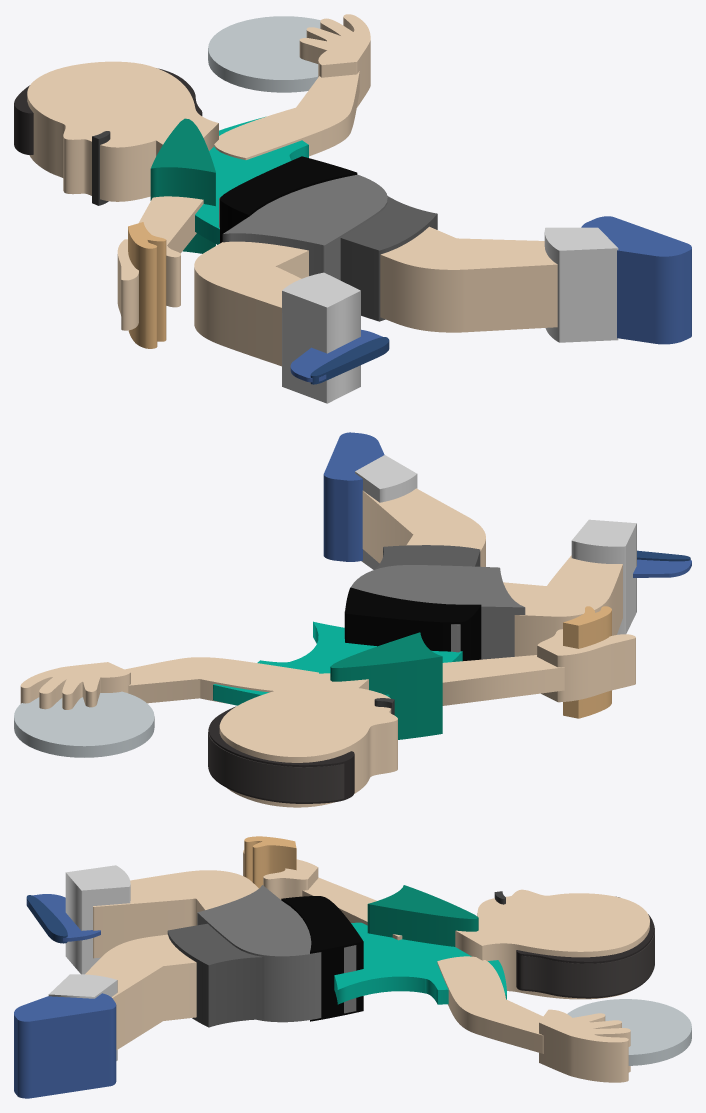
File: emoji_u1f93e_1f3fb_200d_2642.glb
The picture shows the model from 3 angles, top to bottom: view 1: azimuth 30°, elevation 25°; view 2: azimuth 150°, elevation 25°; view 3: azimuth 270°, elevation 25°; orthographic projection. The views are drawn at different scales.
Visible parts, largest first — view 1: emoji_u1f93e_1f3fb_200d_2642; view 2: emoji_u1f93e_1f3fb_200d_2642; view 3: emoji_u1f93e_1f3fb_200d_2642.
Boxes of the visible parts, bbox=[...] form: emoji_u1f93e_1f3fb_200d_2642: bbox=[14, 14, 691, 403]; emoji_u1f93e_1f3fb_200d_2642: bbox=[14, 432, 691, 807]; emoji_u1f93e_1f3fb_200d_2642: bbox=[14, 836, 691, 1098].
Size of the model in its own units: 0.0225 by 0.0048 by 0.0336.
